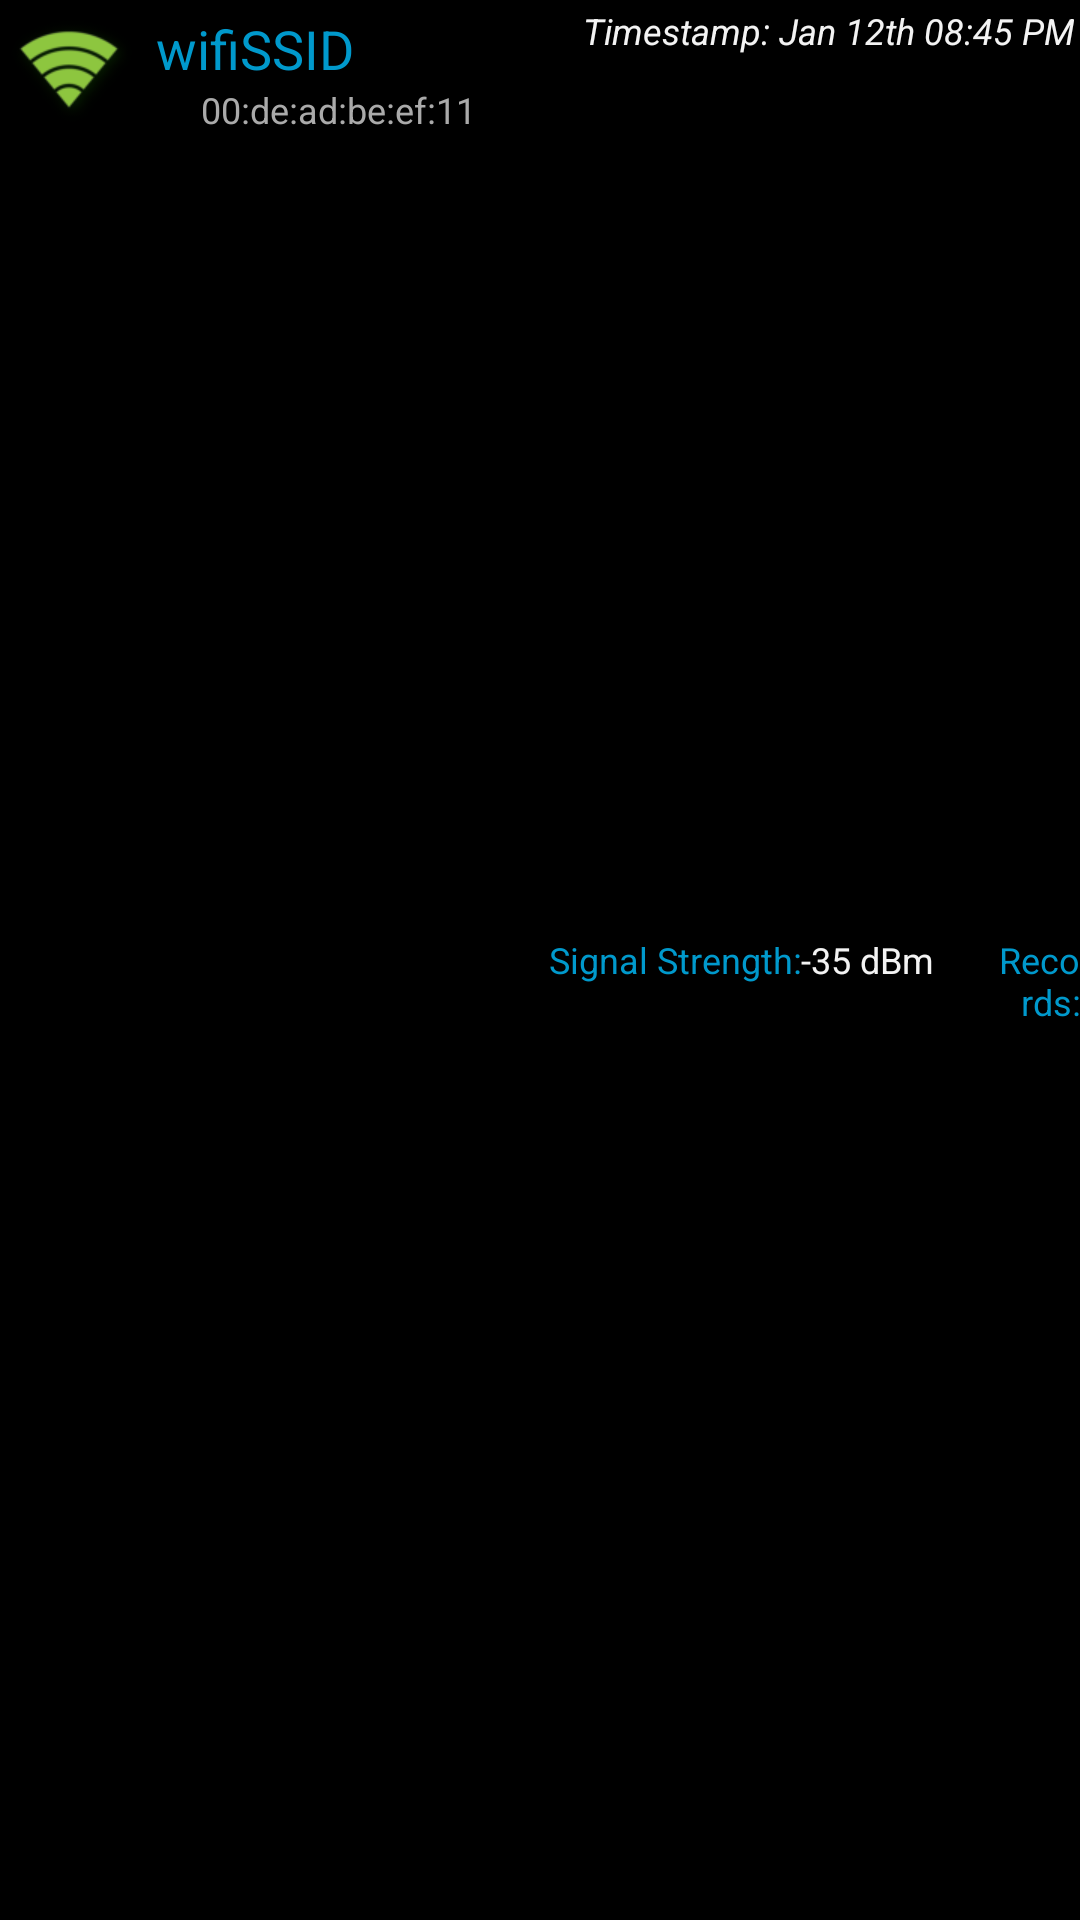

Icons on this 1080×1920 Android screen, each with the point to tap as [x,y]:
Wireless Security Indiciator: [69,69]
